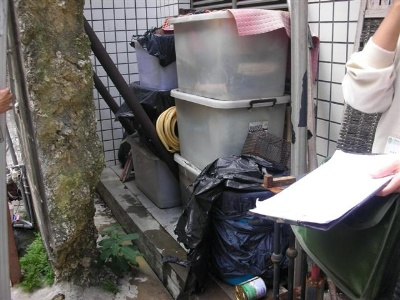bottle: (234, 276, 268, 300)
box: (169, 11, 288, 101), (170, 88, 290, 171)
plastic_bag: (205, 161, 264, 271)
